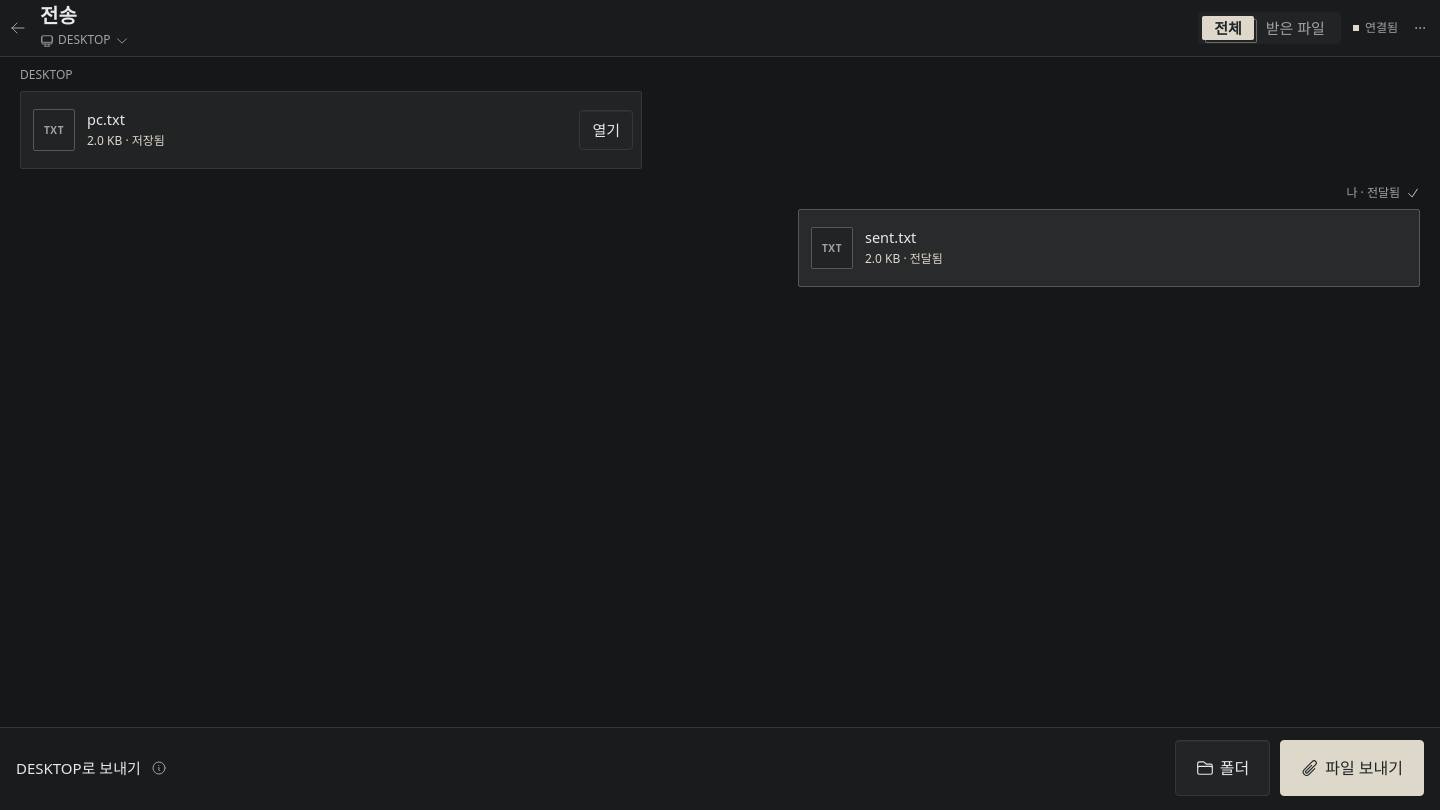
Test: keeps each device to its own timeline and filters to received files
The width and height of the screenshot is (1440, 810).
Expected: the text "pc.txt" is shown, [87,109,125,129]
Expected: the text "sent.txt" is shown, [865,227,916,247]
Click the radio button labelled "받은 파일" at x=1295, y=28, box [1254,16,1337,40]
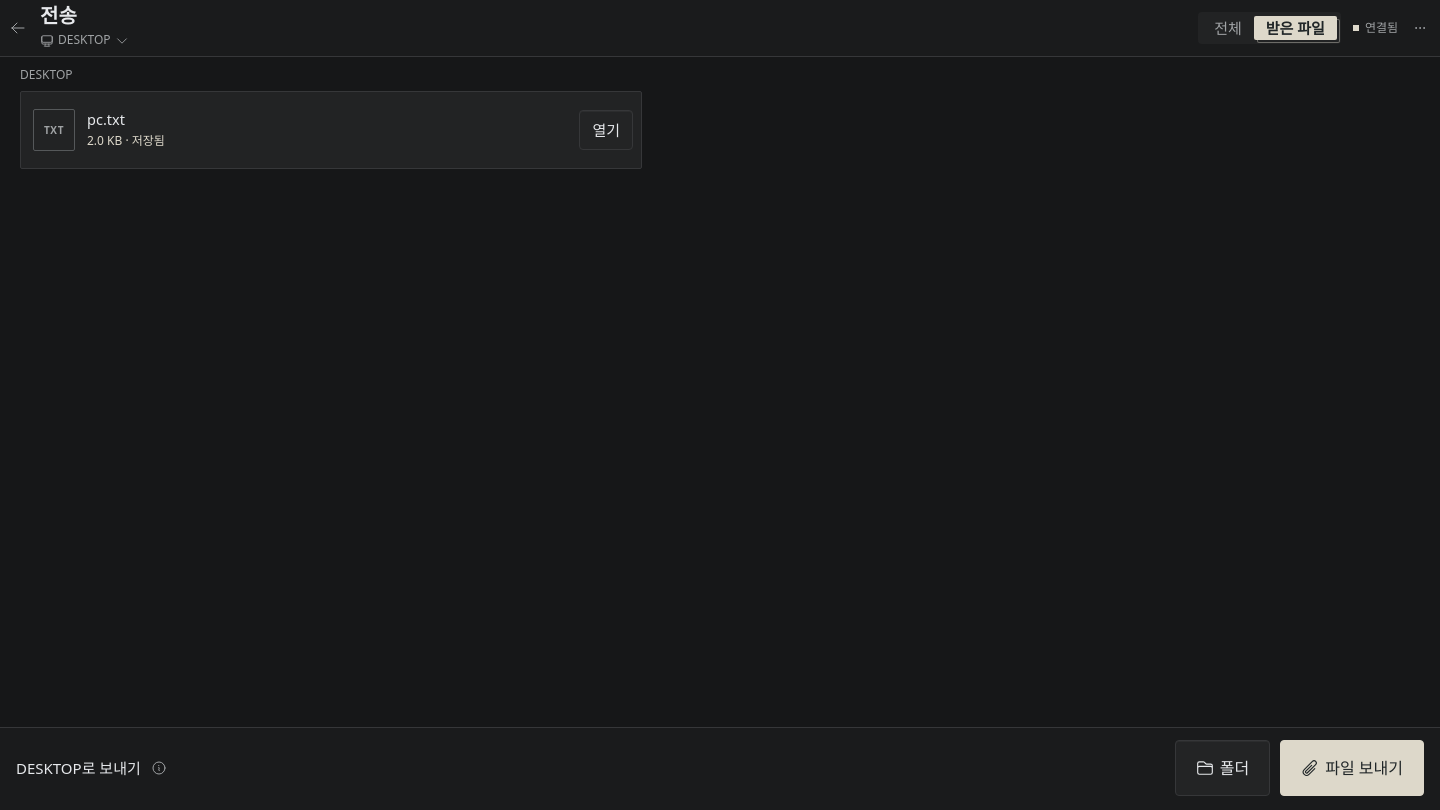
Expected: the text "pc.txt" is shown, [87,109,125,129]
Now the text "sent.txt" is gone
Click the button with aria-label "주고받을 기기: DESKTOP" at x=84, y=40, box [40,28,128,52]
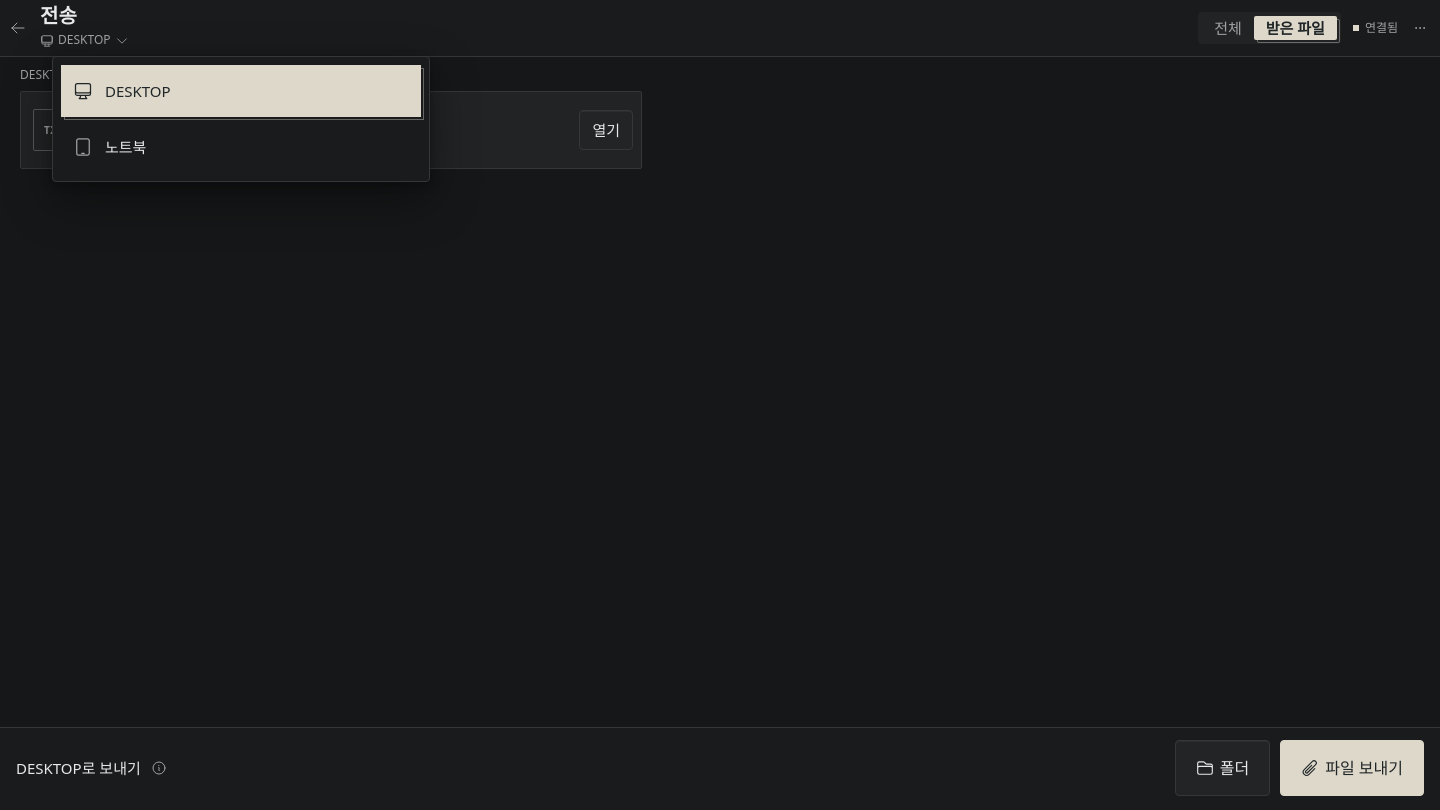
Click the radio button labelled "노트북" at x=126, y=147, box [61,121,421,173]
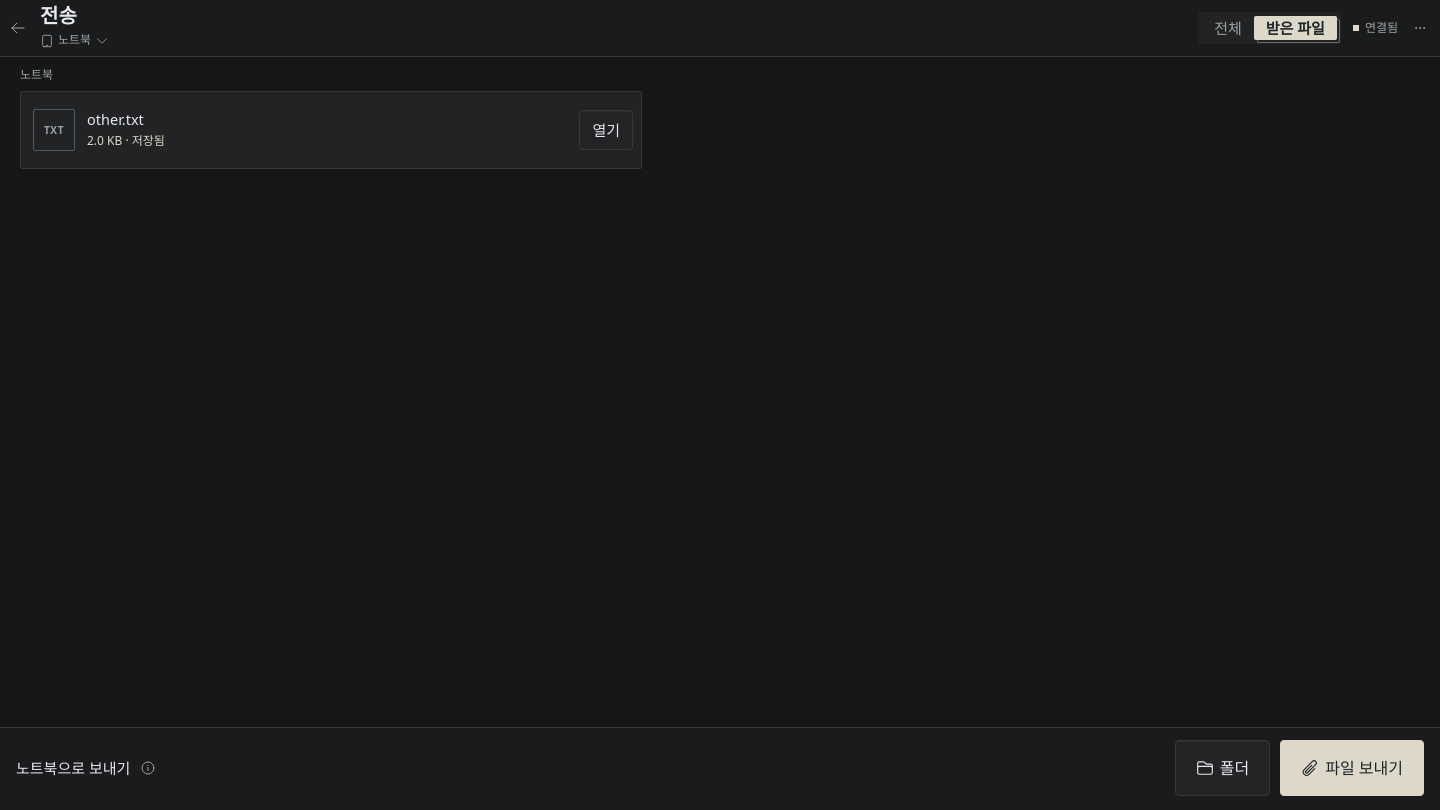
Now the text "other.txt" is shown, box [87,109,144,129]
Now the text "pc.txt" is gone
